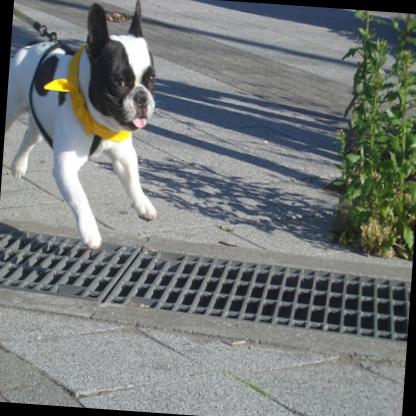French_bulldog: (0, 0, 174, 255)
